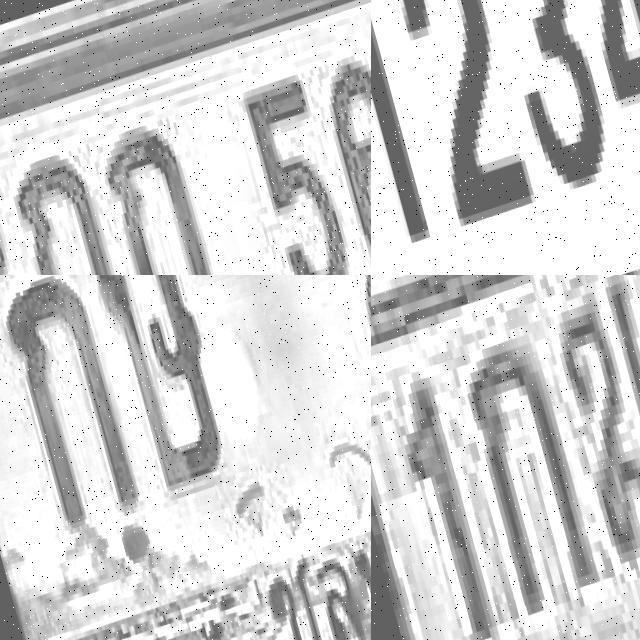license-plate: (0, 275, 371, 640), (0, 0, 371, 275), (371, 275, 640, 640), (371, 0, 640, 275)
